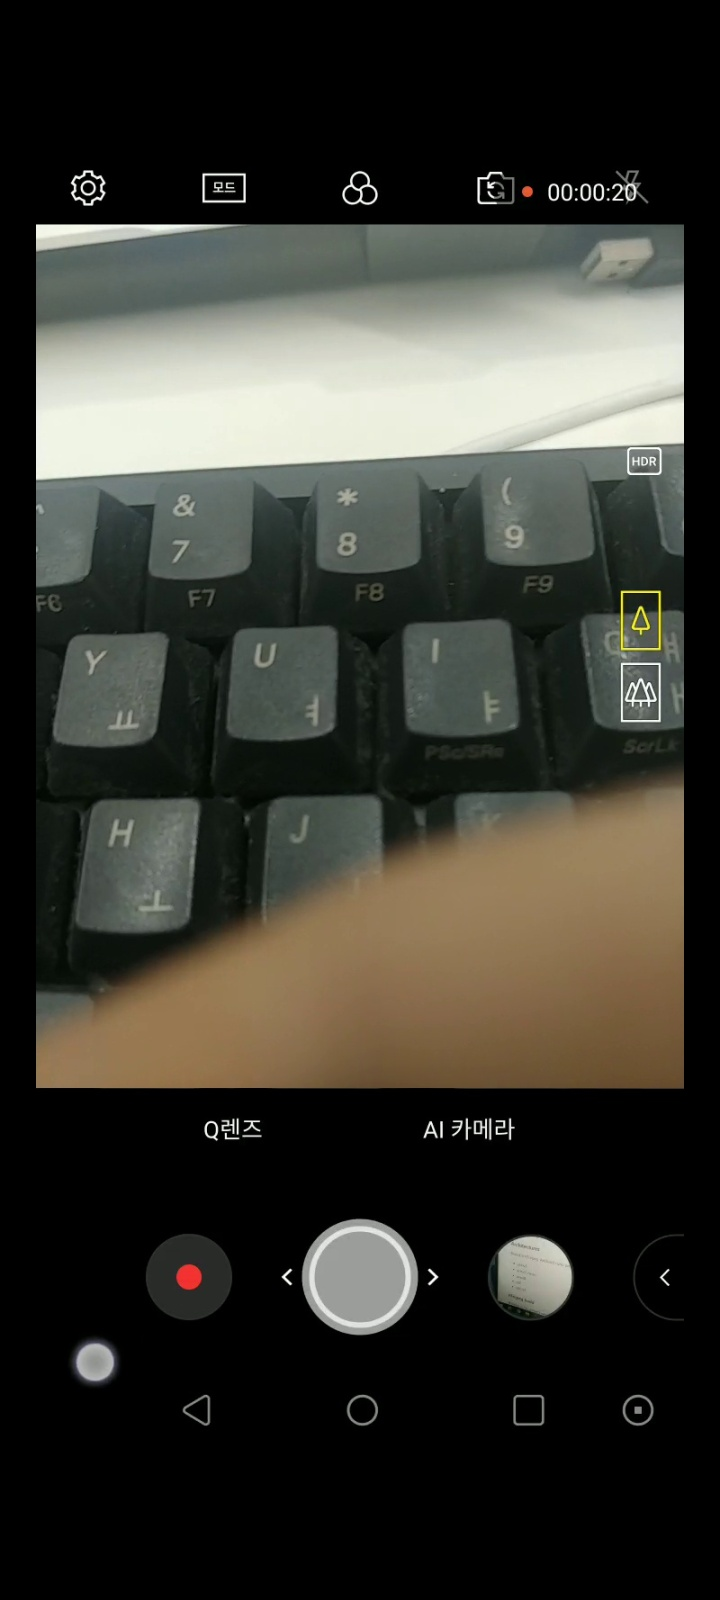Cursor: (72, 1341, 117, 1386)
